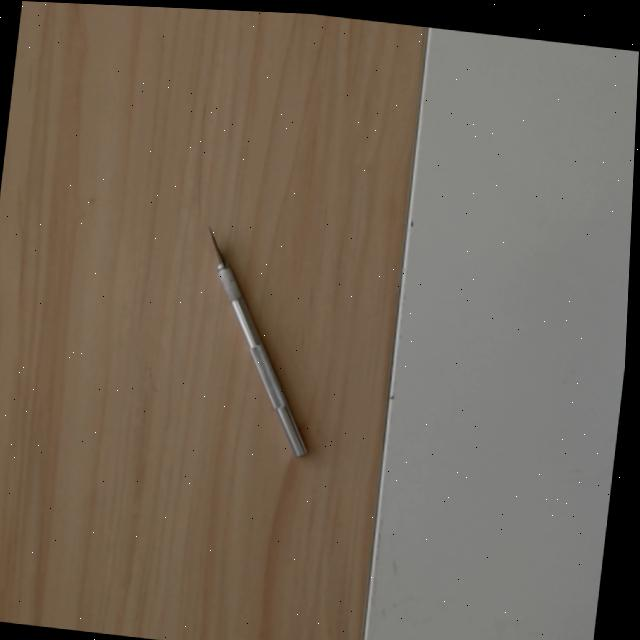Cutter-Kecil: (200, 225, 307, 457)
